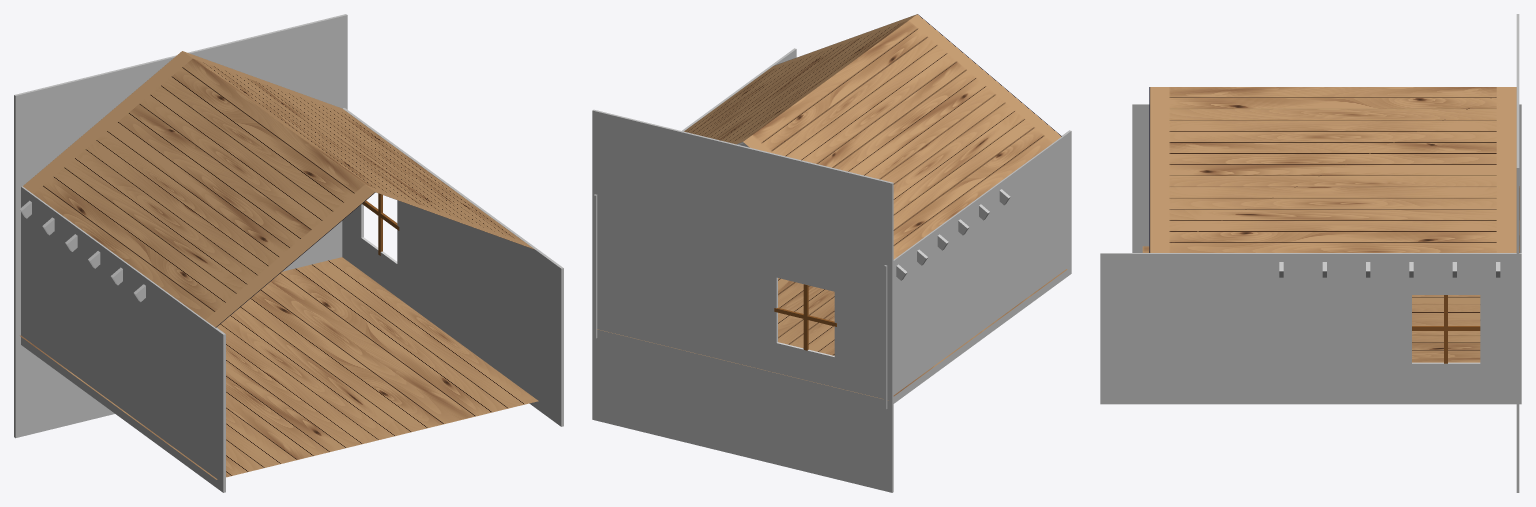
Rendered from MEKAN (1).fbx.
3 views of the same model, side by side, from view 1: azimuth 30°, elevation 25°; view 2: azimuth 150°, elevation 25°; view 3: azimuth 270°, elevation 25° (orthographic). The views are drawn at different scales.
Visible parts, largest first — view 1: Plane, Plane_2, Cube_2, Cube_1, arka_duvar_; view 2: arka_duvar_, Plane, Cube_2, Plane_2, Cube_1; view 3: Plane, Cube_1, Plane_2, Cube_2, arka_duvar_.
Part boxes in pixels (<box>): Plane: <box>23,51,534,327</box>; Plane_2: <box>20,257,538,479</box>; Cube_2: <box>21,186,225,492</box>; Cube_1: <box>342,108,563,426</box>; arka_duvar_: <box>14,14,347,438</box>; arka_duvar_: <box>592,109,893,492</box>; Plane: <box>684,14,1061,259</box>; Cube_2: <box>884,130,1071,409</box>; Plane_2: <box>597,269,1067,400</box>; Cube_1: <box>594,48,796,338</box>; Plane: <box>1149,87,1516,252</box>; Cube_1: <box>1100,253,1521,404</box>; Plane_2: <box>1142,246,1519,362</box>; Cube_2: <box>1132,104,1521,252</box>; arka_duvar_: <box>1516,14,1519,492</box>.
Bounding box in the file's own units: 4218 × 4077 × 4728.
5 materials, 2 textured.
